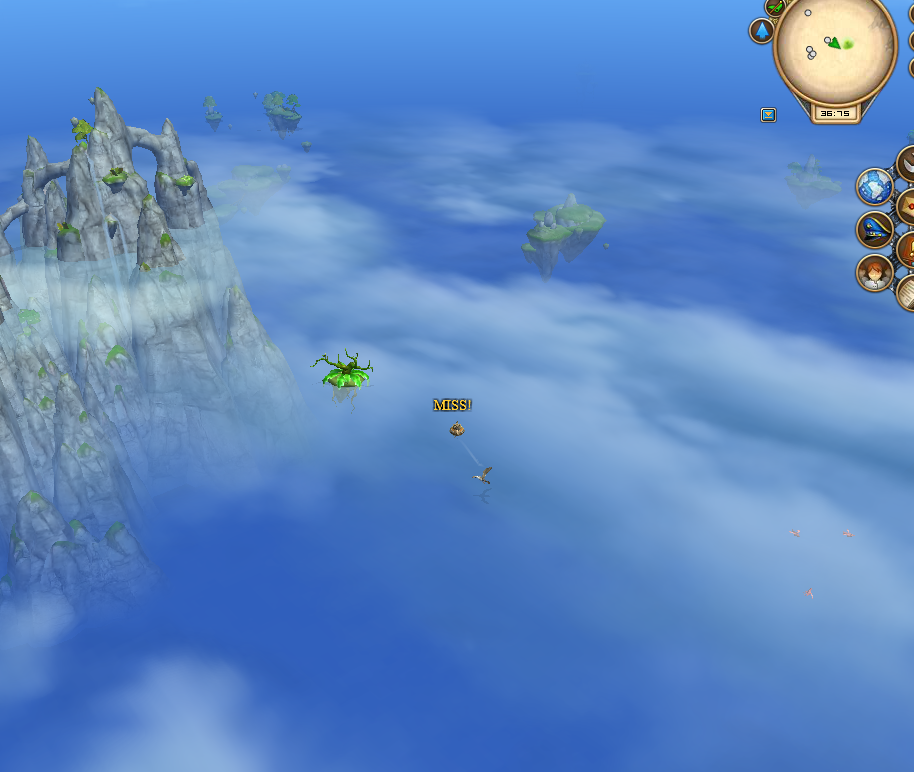dandelion-empty: (310, 338, 377, 397)
dandelion-full: (199, 90, 227, 134)
